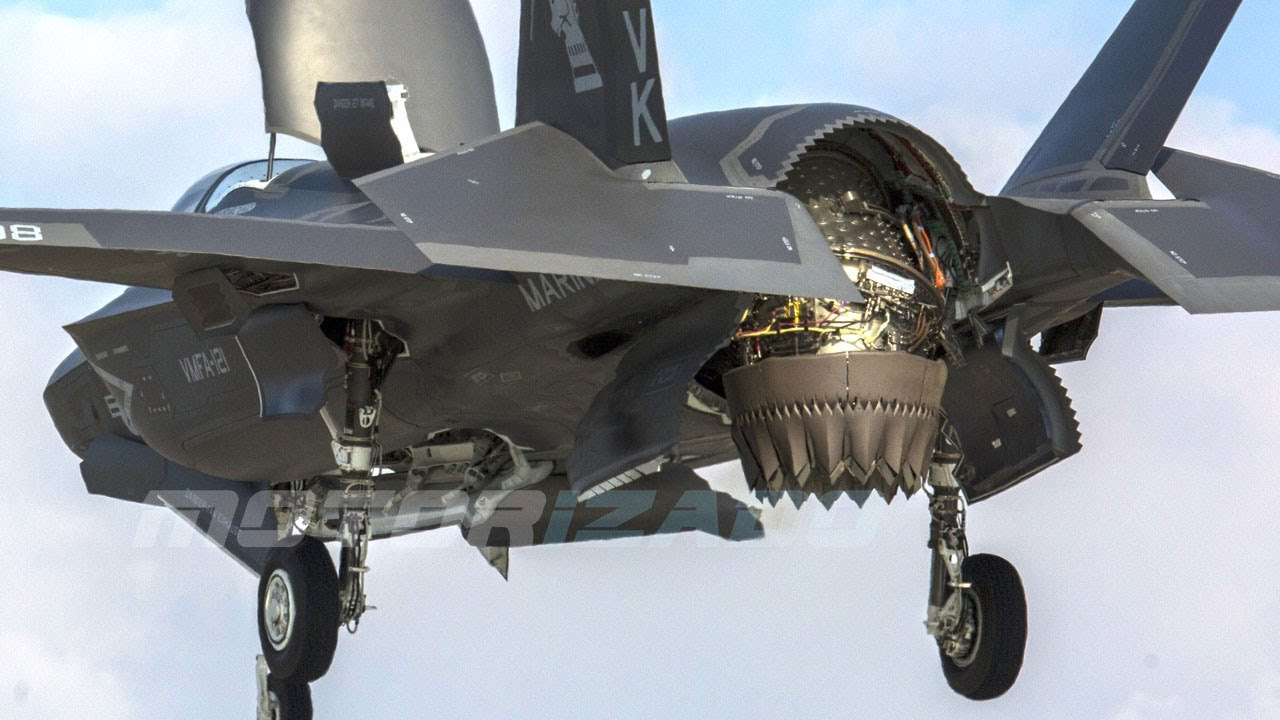F35: (1, 0, 1279, 716)
